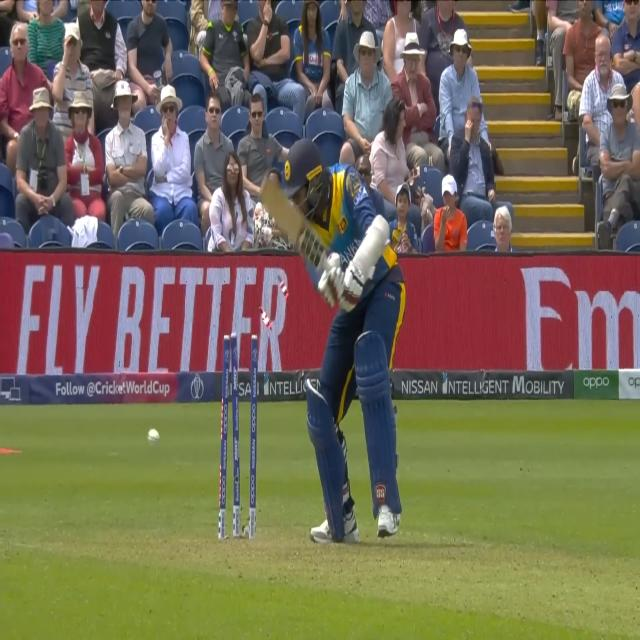ball: (144, 425, 166, 459)
